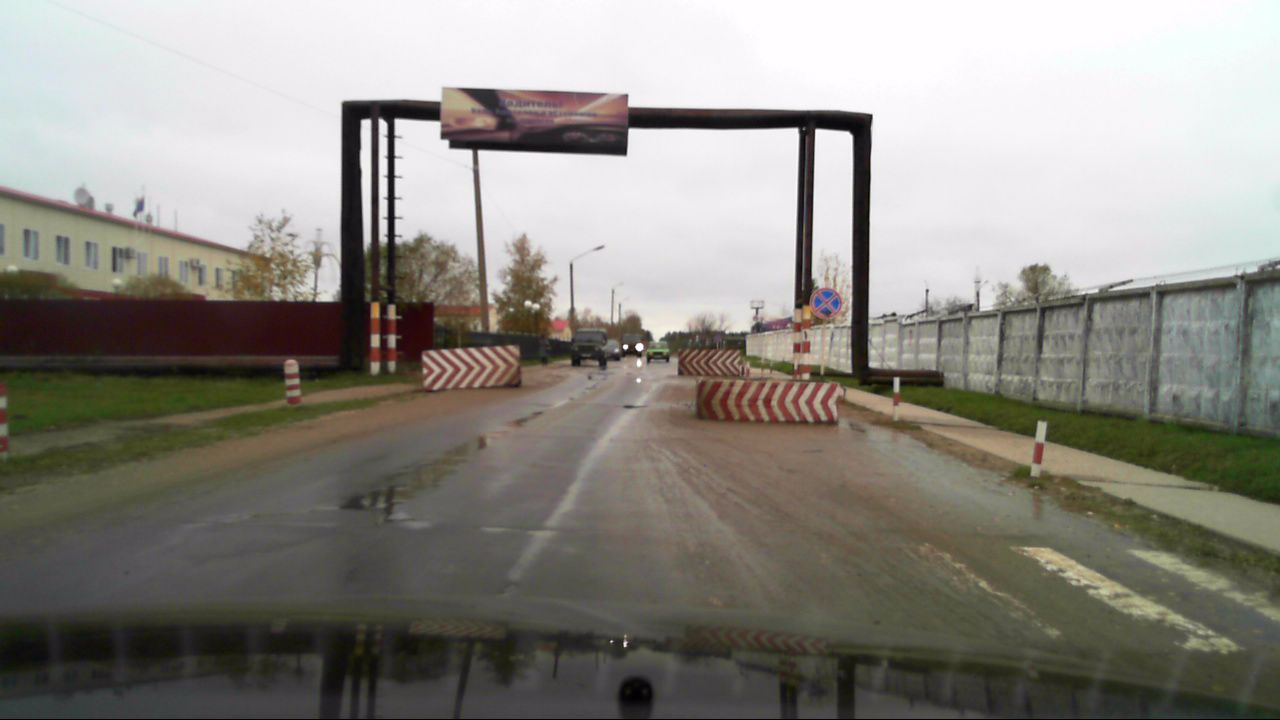No Parking: (809, 288, 842, 320)
